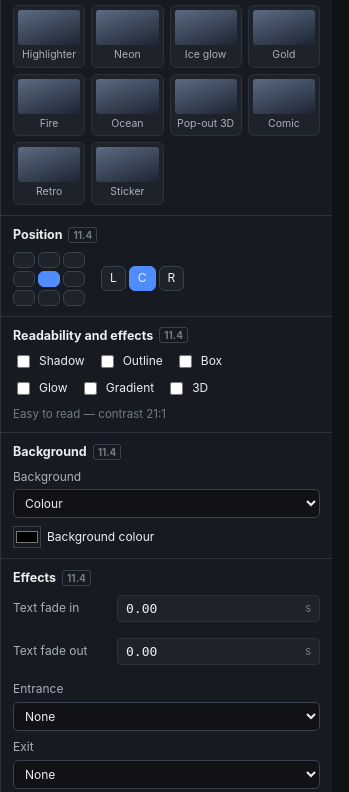
it: title slide inspector (screen 03) › V6 warns when the words are hard to read on the background colour
(page scrolled)
Expected: the text "Easy to read — contrast 21:1" is shown, [13,407,166,421]
Type "#eeeeee" into the colour field labelled "Background colour" at (27, 538), box [13,526,41,548]
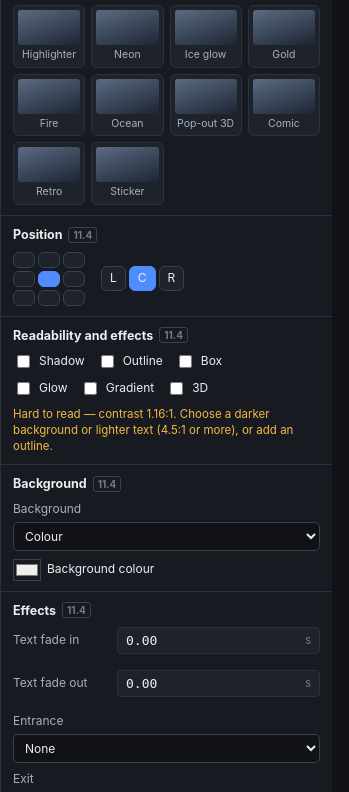
Expected: the text "Hard to read" is shown, [13,407,293,453]
